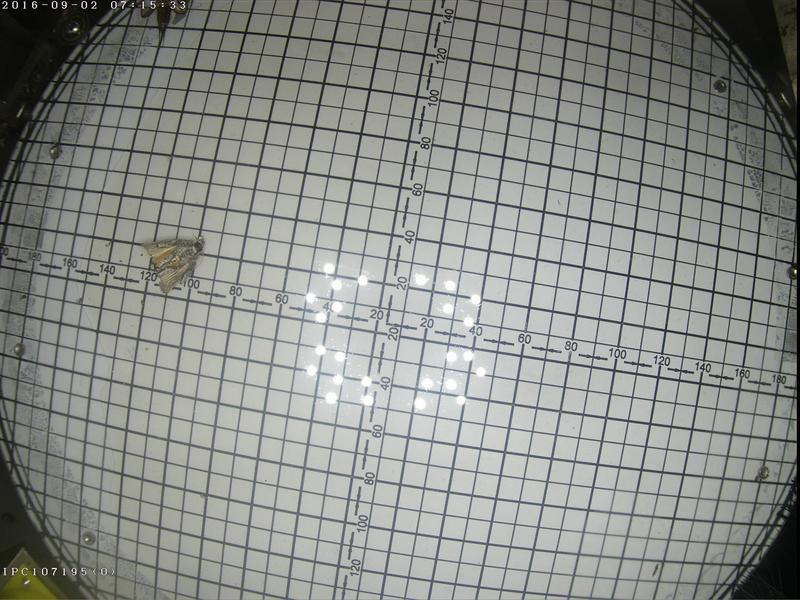Gryllotalpa orientalis: (133, 0, 191, 45)
